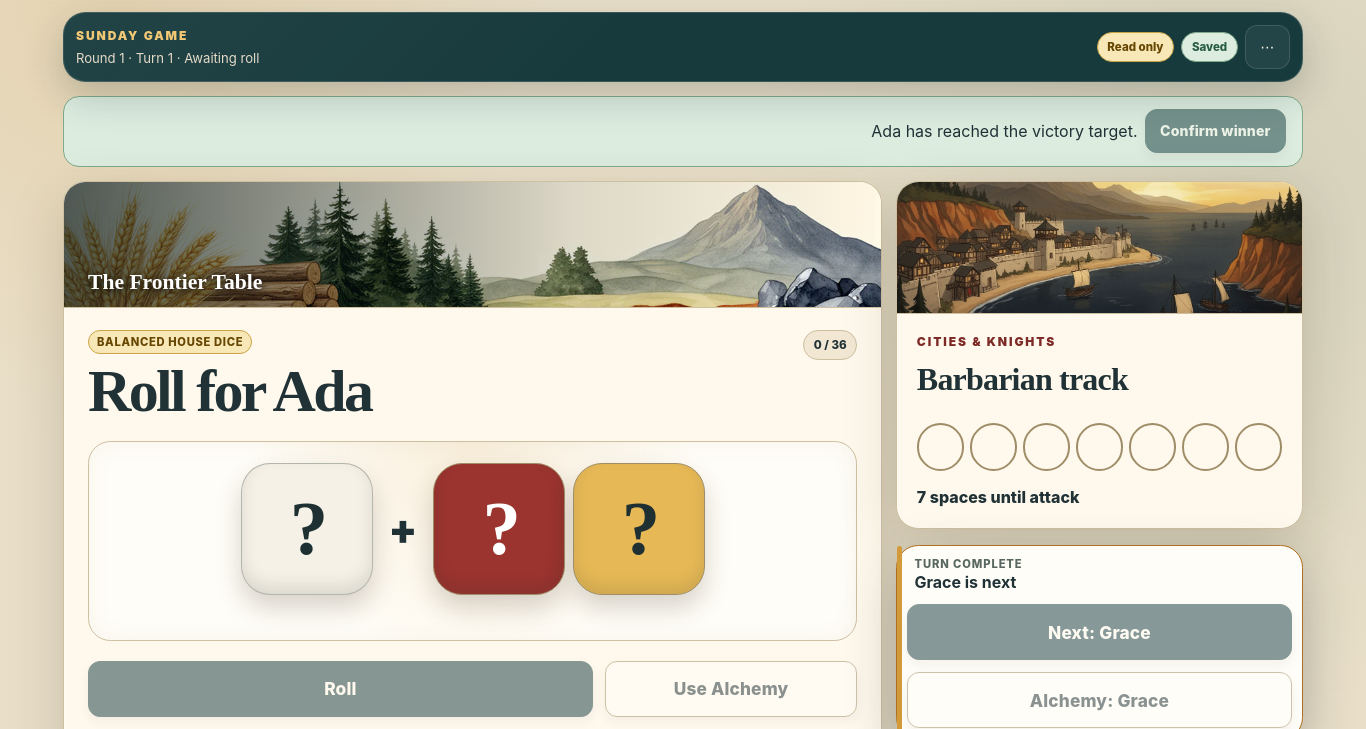
Scenario: GameTable › disables every state-changing table control in read-only mode
Check: the text "Read only" is shown, box top-left (1097, 32), bottom-right (1174, 62)
Check: the button "Roll" is disabled, box top-left (88, 661), bottom-right (593, 717)
Note: Read-only blocks state changes but must not hide read-only actions.
Click the button named "More actions".
click(1268, 47)  # box top-left (1245, 25), bottom-right (1290, 69)
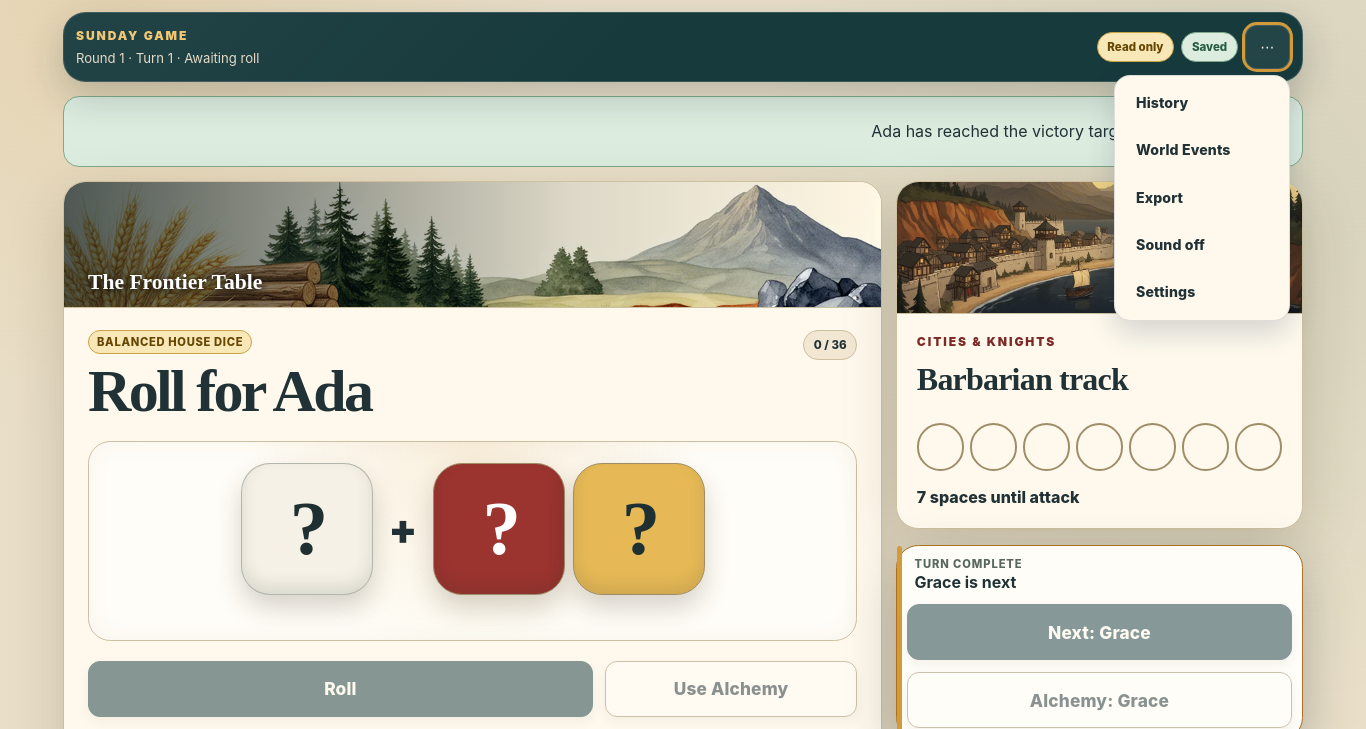
Check: the button "History" is enabled, box top-left (1121, 81), bottom-right (1283, 125)
